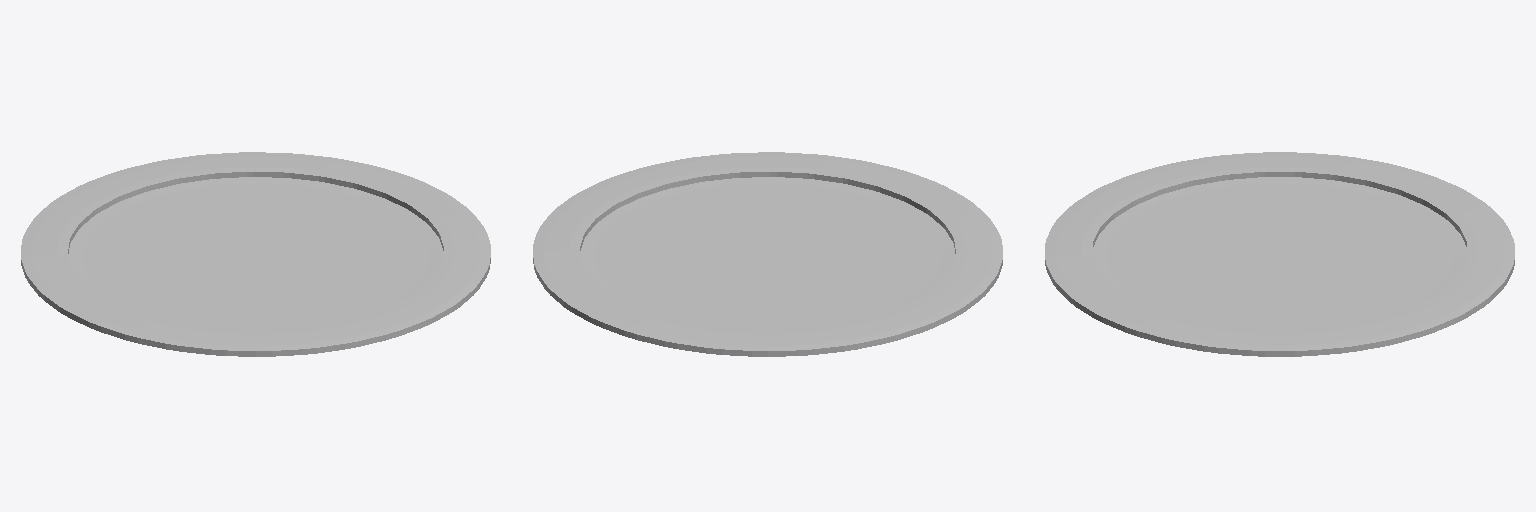
File: bord 2.obj
3 renders of one model, left to right at view 1: azimuth 30°, elevation 25°; view 2: azimuth 150°, elevation 25°; view 3: azimuth 270°, elevation 25°, orthographic.
Visible parts, largest first — view 1: Cylinder.005_Cylinder.006; view 2: Cylinder.005_Cylinder.006; view 3: Cylinder.005_Cylinder.006.
Part boxes in pixels (x1,y1,x2,y2): Cylinder.005_Cylinder.006: (21, 152, 490, 356); Cylinder.005_Cylinder.006: (533, 152, 1002, 356); Cylinder.005_Cylinder.006: (1045, 152, 1514, 356).
Size of the model in its own units: 1.99 by 0.0467 by 1.99.